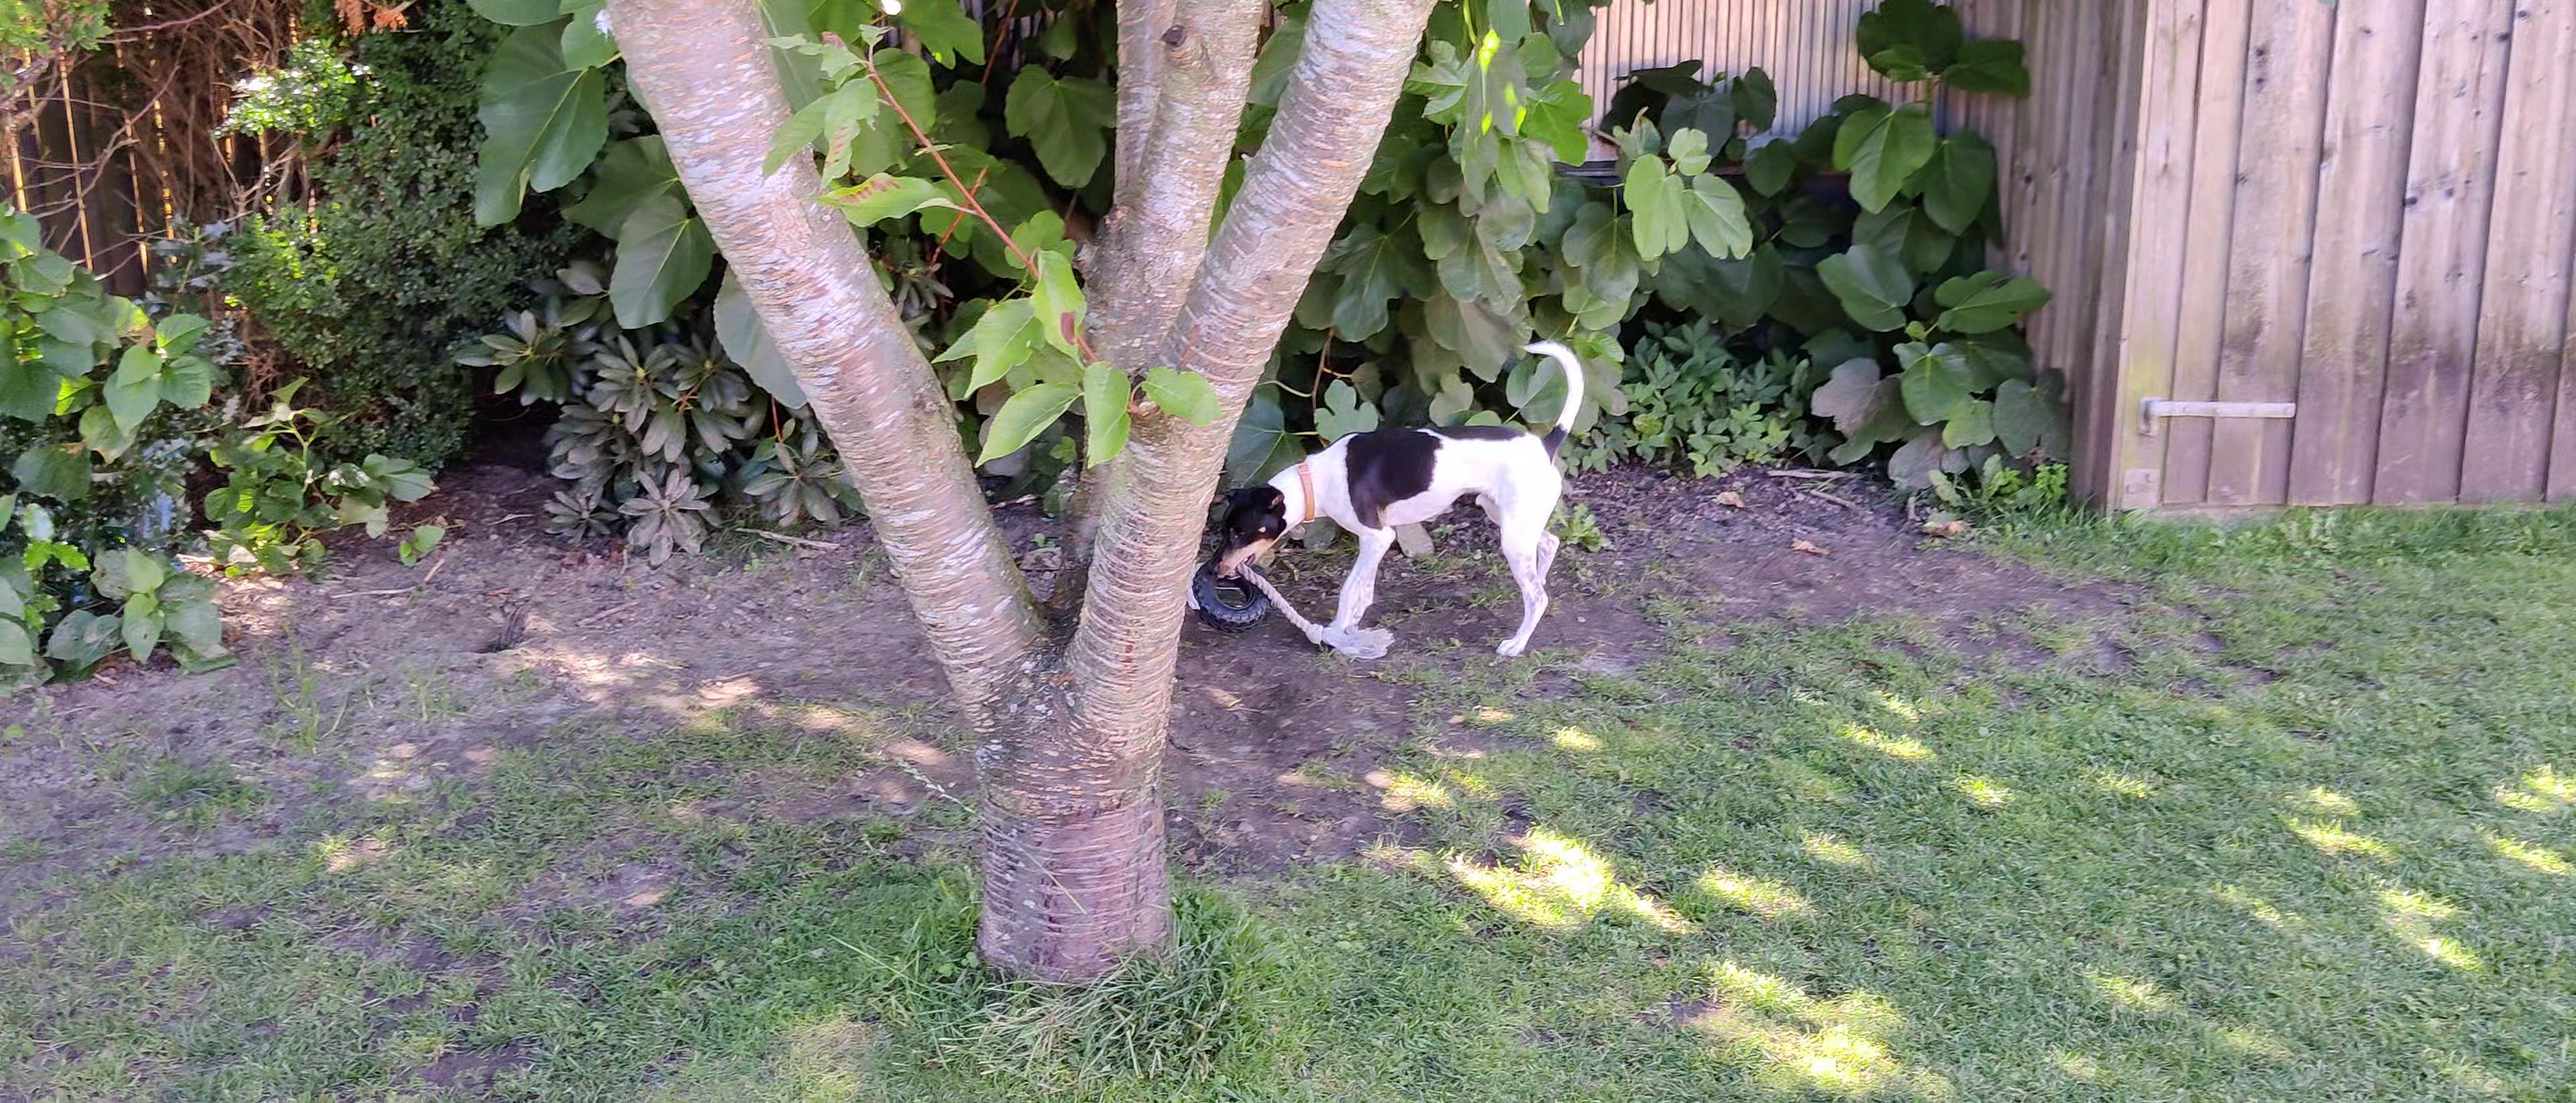Dog: (1204, 337, 1587, 661)
